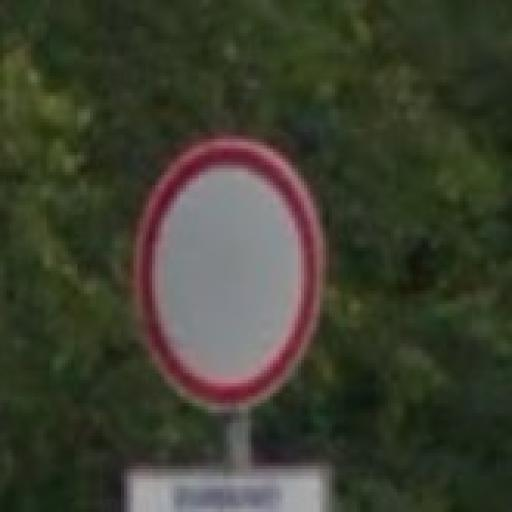traffic_sign: (131, 140, 324, 414)
